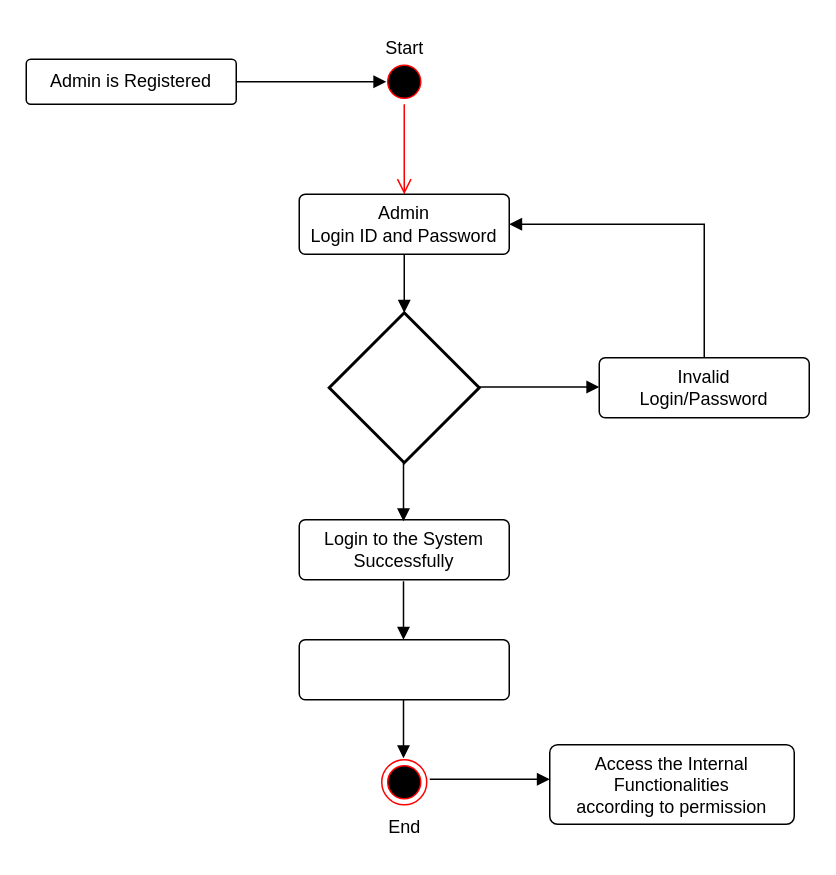
The diagram is 836 pixels wide and 875 high, and some of its shapes have lost their labels. Each missing label, with the centre of its shape:
Check Login ID Password: the point at 403,387
Set Userlevel and Permission: the point at 403,669
